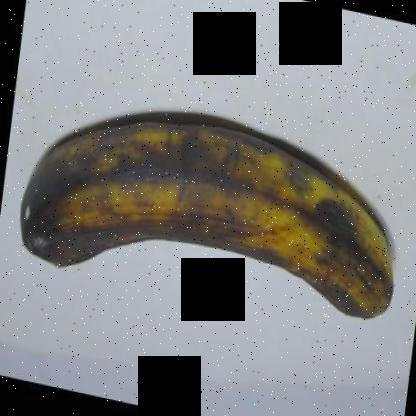overripe: (3, 106, 402, 332)
rotten: (20, 170, 78, 286)
